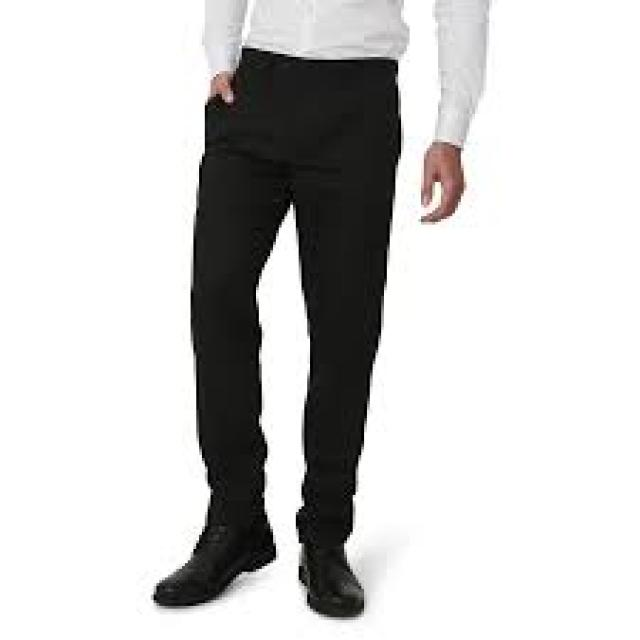pants: (180, 41, 404, 543)
